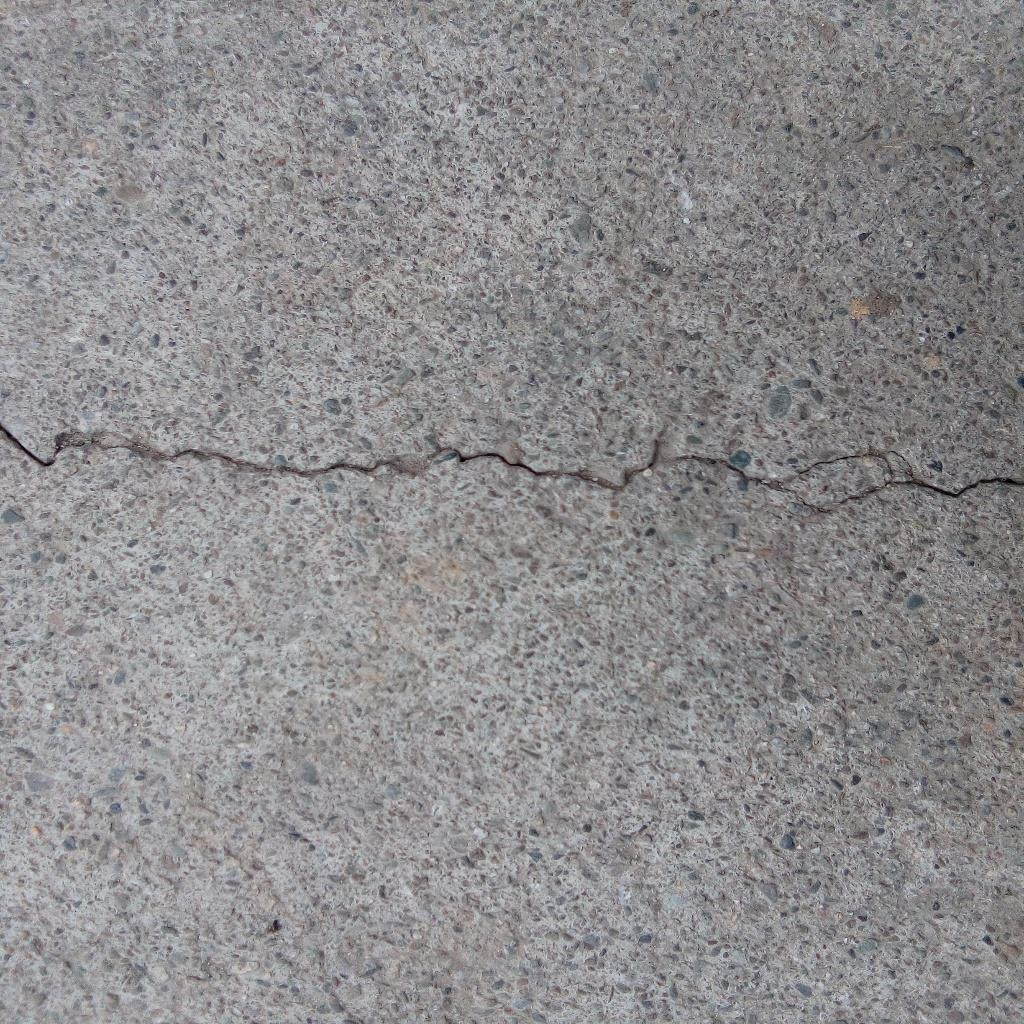Crack: (1, 424, 1024, 516)
